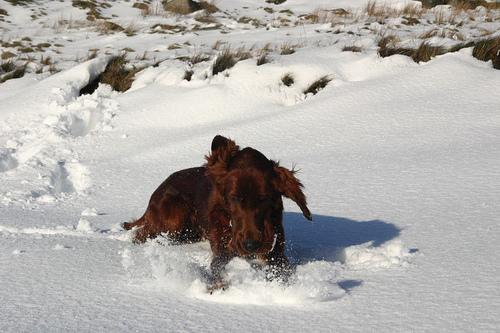Irish_setter: (119, 131, 314, 297)
